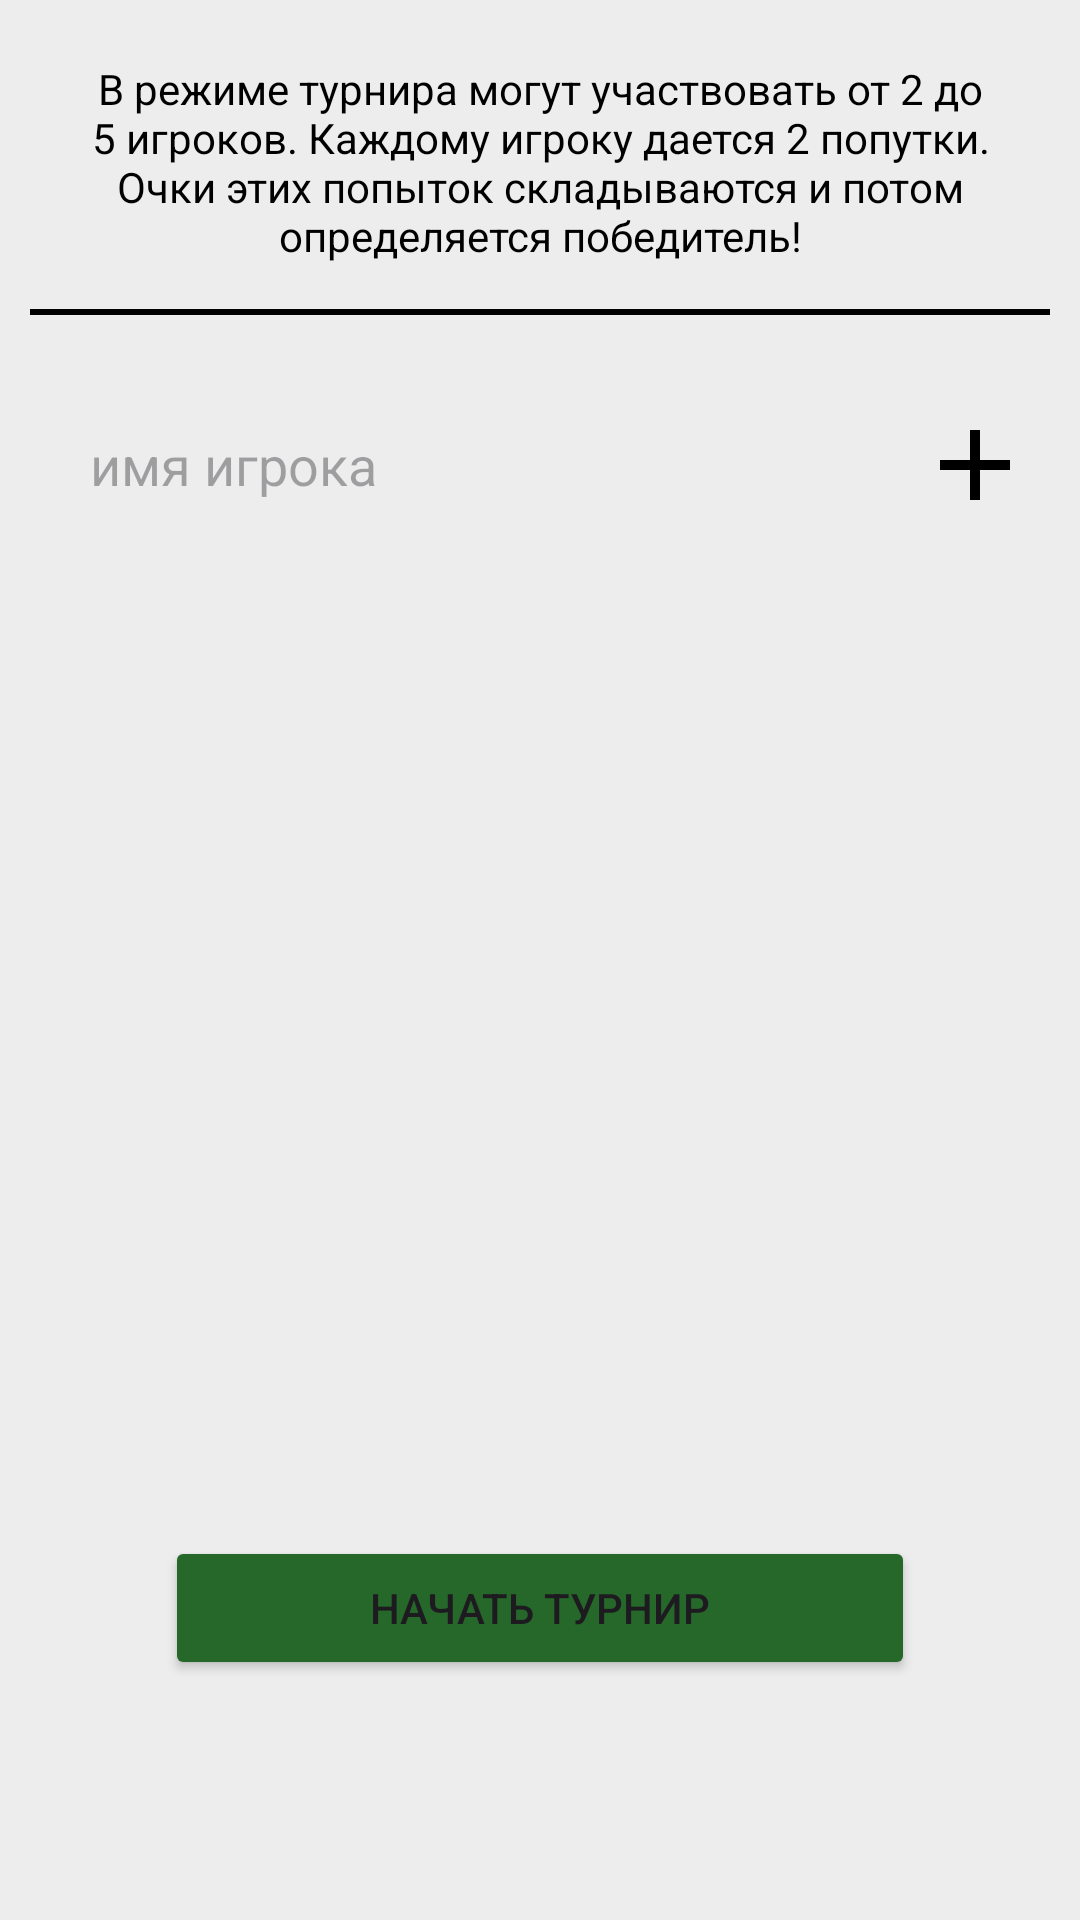

Locate icon controls on the screen. Image size 1080×1920, boxes as {"x1": x1, "y1": y1, "x2": x2, "y2": y2}.
add: {"x1": 940, "y1": 430, "x2": 1010, "y2": 500}
